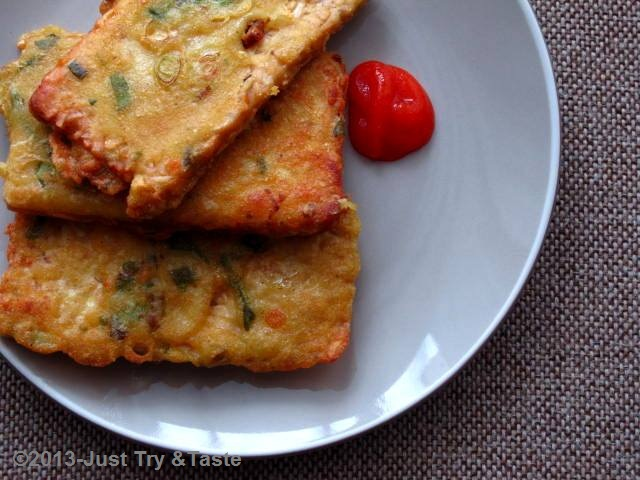Tempe: (3, 216, 366, 369), (33, 10, 301, 185)
